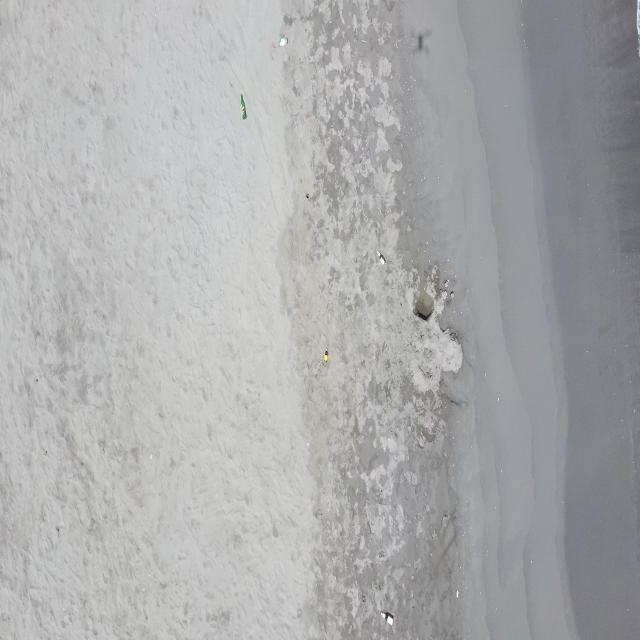glass: (239, 93, 248, 120), (380, 610, 394, 626), (272, 36, 289, 48), (376, 250, 386, 267), (324, 347, 328, 363)
